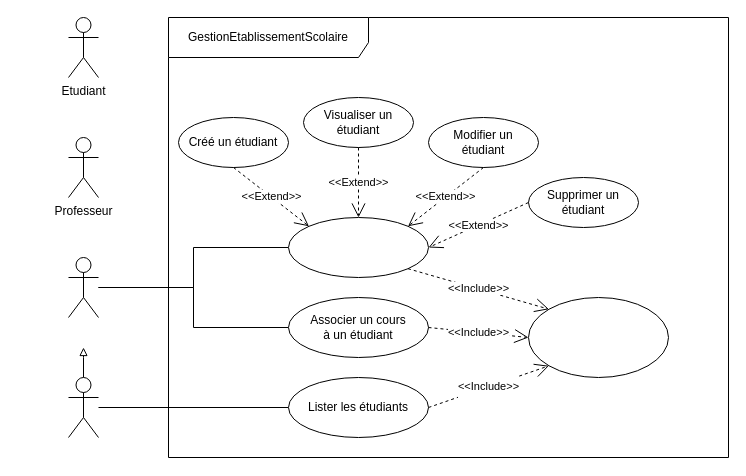
Some shapes in this 746 by 476 pixel diagram are drawn without their labels. The shapes that lost their labels are listed below. From the top down, each one's centre as x and y in pixels, then its label:
(x=358, y=247): Géré un étudiant
(x=83, y=287): Responsable des études
(x=598, y=337): S'authentifier
(x=83, y=407): Directeur
